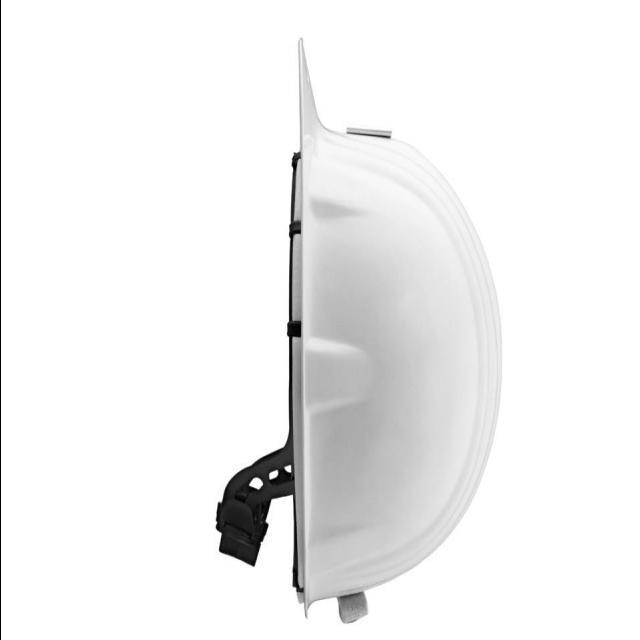safety_helmet: (213, 37, 501, 625)
